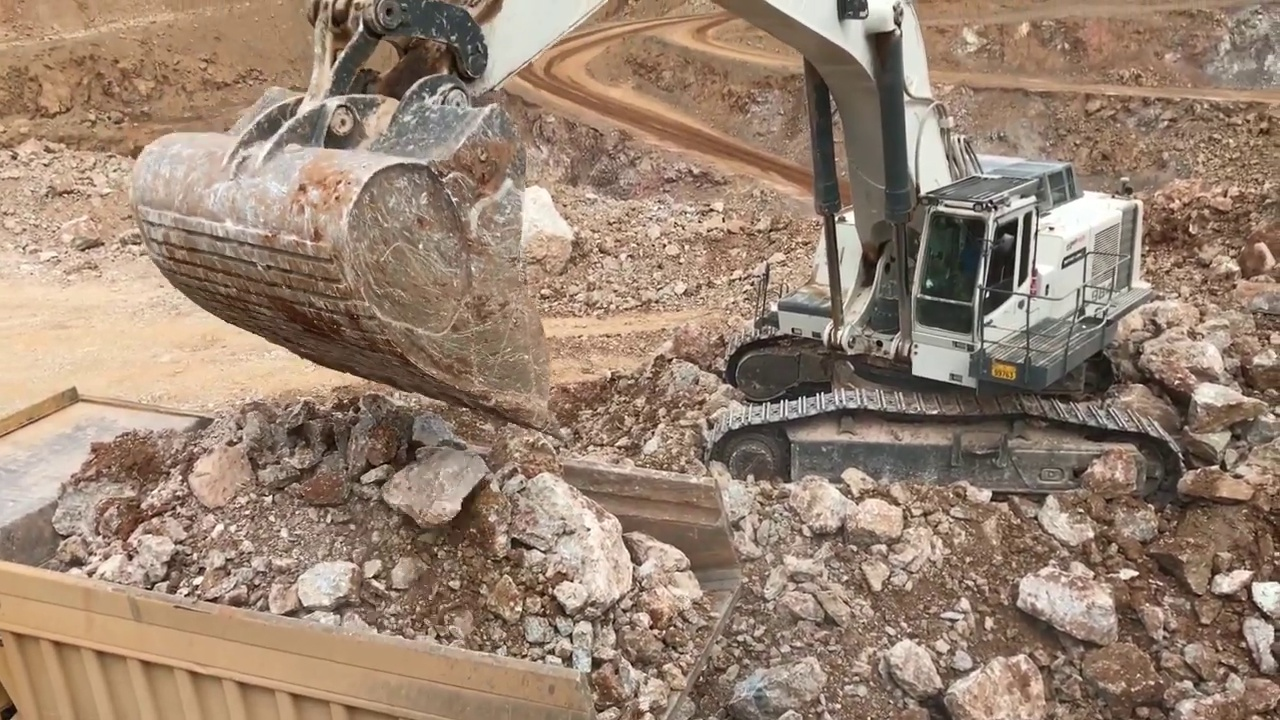dumper: (1, 383, 738, 720)
excavator: (129, 3, 1187, 511)
